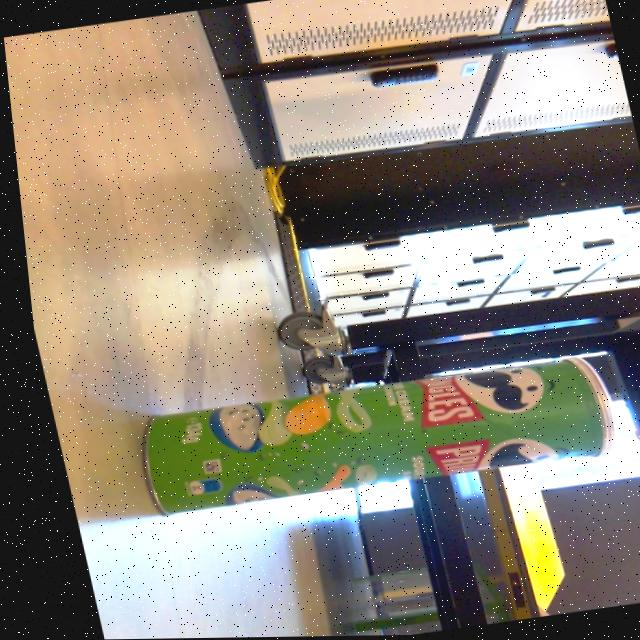greenpringles: (103, 336, 630, 537)
